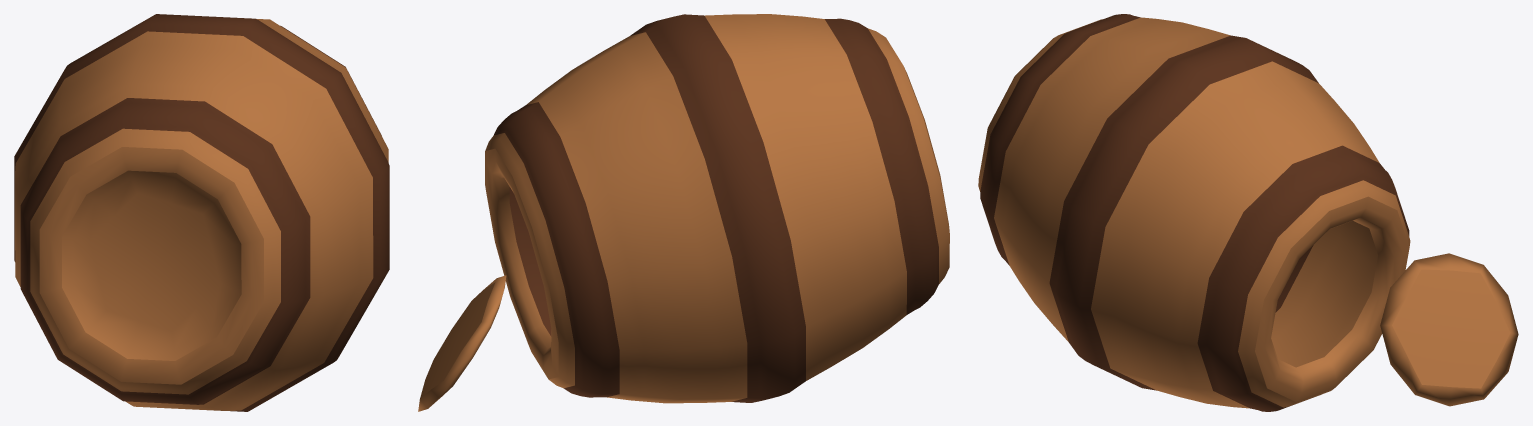
Rendered from BucketB.fbx.
3 views of the same model, side by side, from view 1: azimuth 30°, elevation 25°; view 2: azimuth 150°, elevation 25°; view 3: azimuth 270°, elevation 25° (orthographic). The views are drawn at different scales.
Visible parts, largest first — view 1: Circle.001; view 2: Circle.001; view 3: Circle.001.
Boxes of the visible parts, box(x1,y1,x2,y2) form: Circle.001: box(14, 14, 389, 411); Circle.001: box(418, 14, 949, 411); Circle.001: box(978, 14, 1518, 411).
Size of the model in its own units: 221 by 194 by 280.
